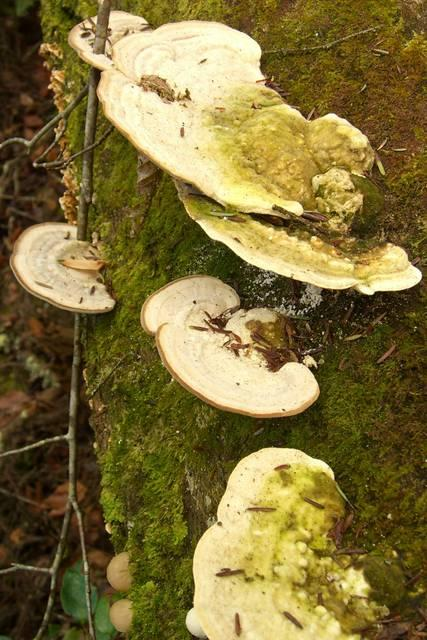poisonous_mushroom: (66, 8, 422, 296), (184, 445, 390, 639), (139, 273, 321, 419)
